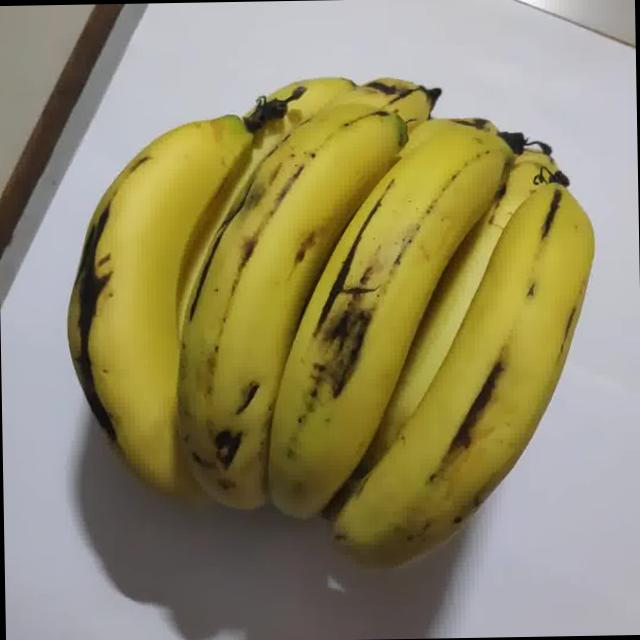banana_pacche: (40, 3, 616, 620)
